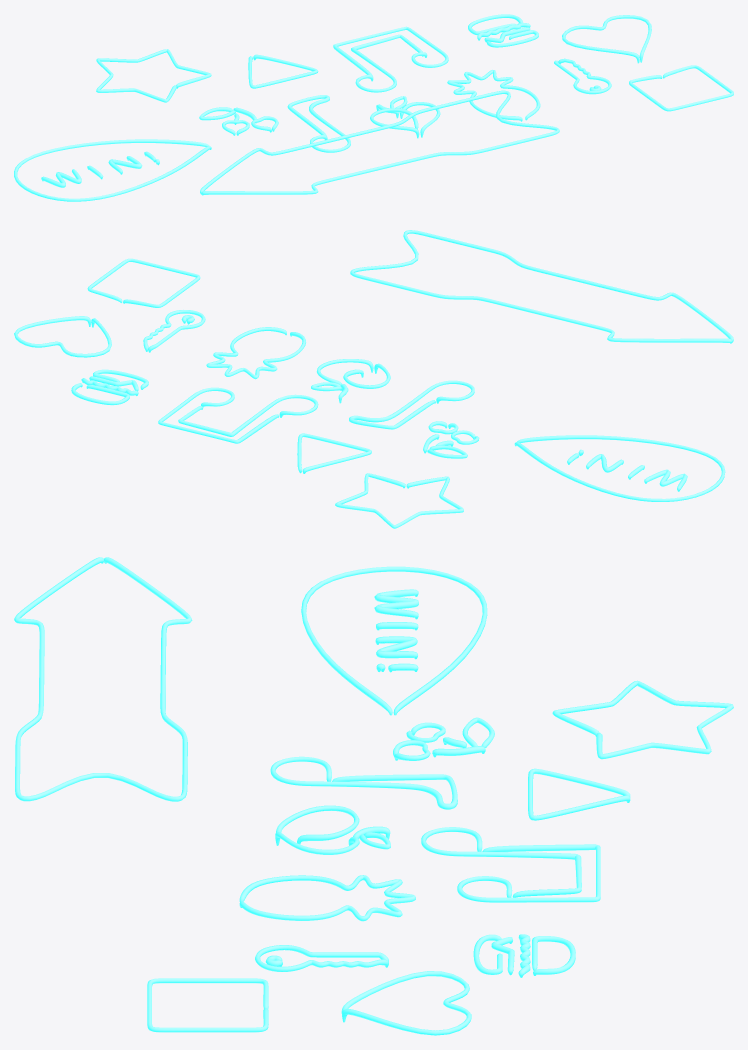
File: ArcadeMixedneon.fbx
The picture shows the model from 3 angles, top to bottom: view 1: azimuth 30°, elevation 25°; view 2: azimuth 150°, elevation 25°; view 3: azimuth 270°, elevation 25°; orthographic projection. The views are drawn at different scales.
Parts seen in each view (by area): view 1: neon_arrow, neon_musical_note, neon_teardrop, neon_burger, neon_star.002, neon_fruit_pineapple, neon_fruit_cherry, neon_fruit_peach, neon_musical_note.001, neon_heart.002, neon_square.002, neon_triangle.002 (+2 smaller); view 2: neon_arrow, neon_musical_note, neon_teardrop, neon_burger, neon_star.002, neon_musical_note.001, neon_fruit_pineapple, neon_fruit_peach, neon_fruit_cherry, neon_square.002, neon_heart.002, neon_triangle.002 (+1 smaller); view 3: neon_arrow, neon_musical_note, neon_teardrop, neon_fruit_pineapple, neon_star.002, neon_musical_note.001, neon_fruit_peach, neon_burger, neon_heart.002, neon_fruit_cherry, neon_square.002, neon_key (+3 smaller).
Part boxes in pixels (x1,y1,x2,y2): neon_arrow: (200,90,559,195); neon_musical_note: (333,26,448,92); neon_teardrop: (14,139,211,201); neon_burger: (468,14,538,47); neon_star.002: (96,49,211,102); neon_fruit_pineapple: (447,70,540,121); neon_fruit_cherry: (199,107,278,135); neon_fruit_peach: (370,96,440,138); neon_musical_note.001: (287,95,350,152); neon_heart.002: (562,15,651,63); neon_square.002: (629,65,733,111); neon_triangle.002: (248,54,318,88); neon_arrow: (350,230,733,343); neon_musical_note: (158,387,318,443); neon_teardrop: (514,435,725,501); neon_burger: (71,369,148,405); neon_star.002: (335,473,463,528); neon_musical_note.001: (349,380,474,429); neon_fruit_pineapple: (206,327,305,379); neon_fruit_peach: (311,359,390,403); neon_fruit_cherry: (423,421,479,458); neon_square.002: (87,258,200,307); neon_heart.002: (14,316,111,357); neon_triangle.002: (297,433,371,473); neon_arrow: (14,557,192,801); neon_musical_note: (421,827,600,902); neon_teardrop: (301,566,487,715); neon_fruit_pineapple: (239,875,415,921); neon_star.002: (552,680,733,759); neon_musical_note.001: (270,756,457,809); neon_fruit_peach: (275,805,390,854); neon_burger: (473,934,575,977); neon_heart.002: (341,971,471,1035); neon_fruit_cherry: (393,717,494,760); neon_square.002: (147,978,268,1032); neon_key: (255,945,388,971).
Size of the model in its own units: 2224 by 192 by 1448.
